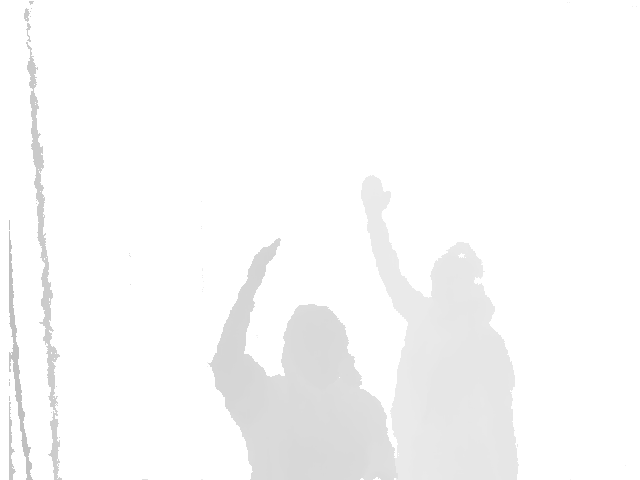hand: (246, 238, 280, 284), (361, 176, 392, 214)
head: (282, 304, 348, 390), (429, 241, 485, 303)
person: (360, 175, 519, 480), (209, 238, 398, 480)
